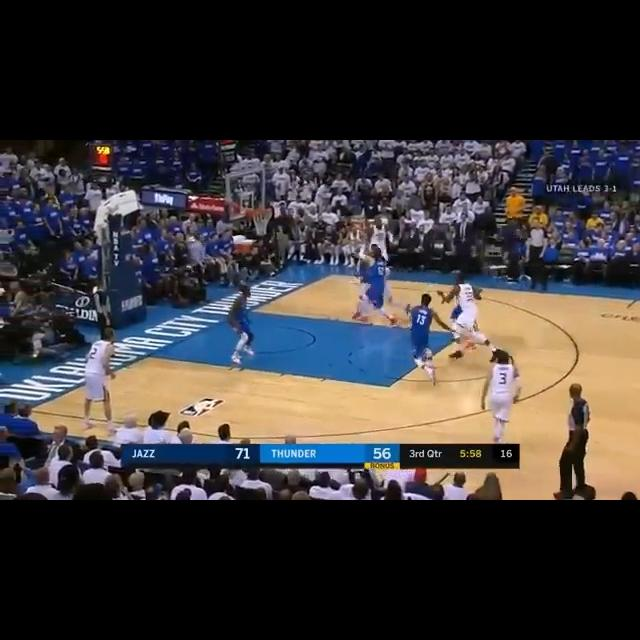hoop: (249, 205, 275, 236)
